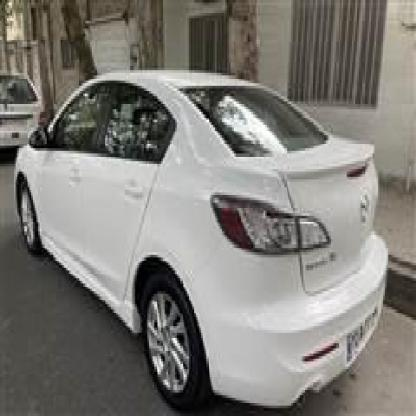Car: (28, 36, 385, 416), (0, 65, 50, 169)
